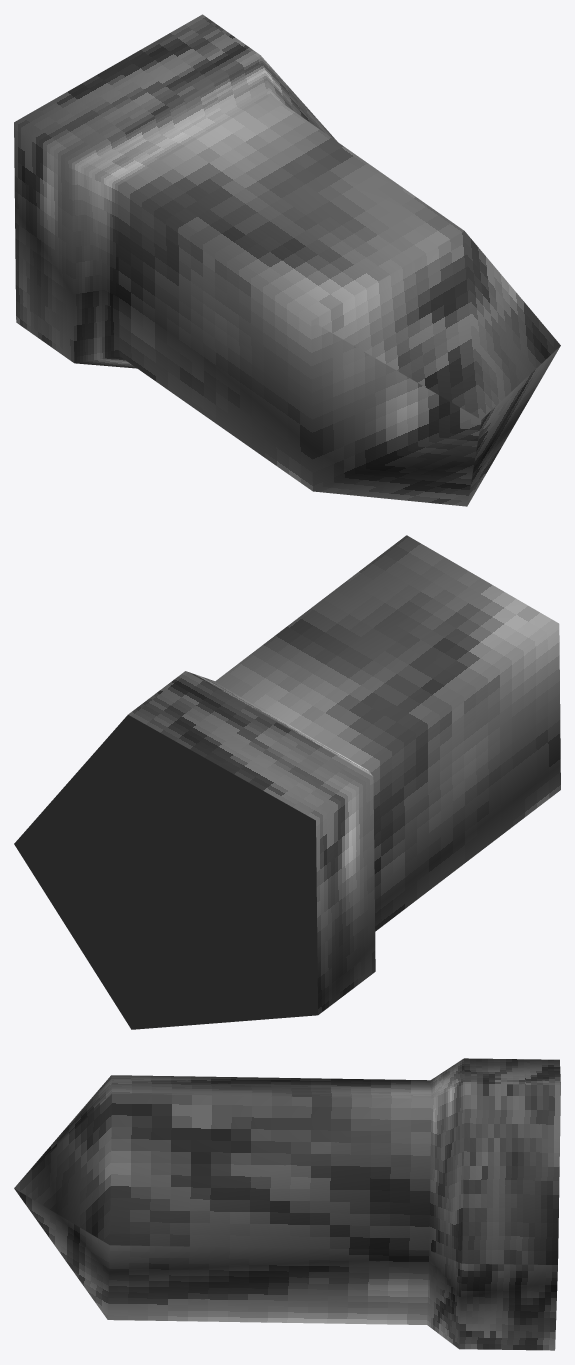
File: bullet.obj
3 views of the same model, one above another, from view 1: azimuth 30°, elevation 25°; view 2: azimuth 150°, elevation 25°; view 3: azimuth 270°, elevation 25° (orthographic). The views are drawn at different scales.
Visible parts, largest first — view 1: Cylinder01; view 2: Cylinder01; view 3: Cylinder01.
Part boxes in pixels (box(x1,y1,x2,y2)): Cylinder01: box(14, 14, 560, 506); Cylinder01: box(14, 535, 560, 1029); Cylinder01: box(14, 1058, 560, 1350).
Bounding box in the file's own units: 15.03 × 15.13 × 28.15.
